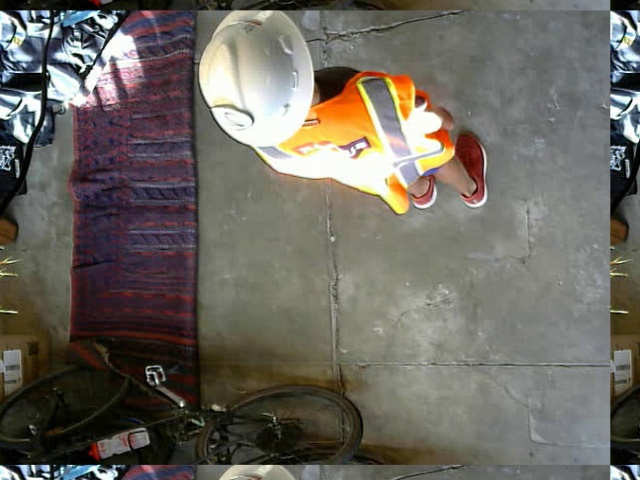two: (208, 106, 252, 132)
